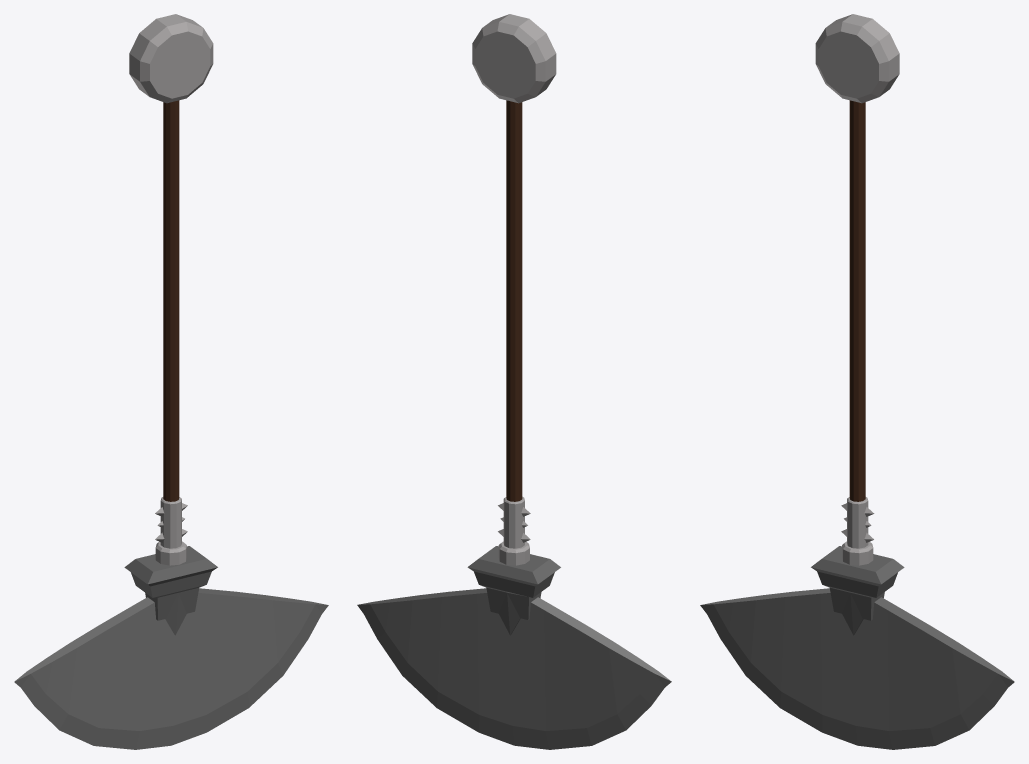
Rendered from StonePendulumTrap_3.fbx.
3 views of the same model, side by side, from view 1: azimuth 30°, elevation 25°; view 2: azimuth 150°, elevation 25°; view 3: azimuth 330°, elevation 25° (orthographic).
Parts seen in each view (by area): view 1: StonePendulumTrap_3; view 2: StonePendulumTrap_3; view 3: StonePendulumTrap_3.
Boxes of the visible parts, left/top/right/bottom form: StonePendulumTrap_3: left=14, top=14, right=328, bottom=749; StonePendulumTrap_3: left=357, top=14, right=671, bottom=749; StonePendulumTrap_3: left=700, top=14, right=1014, bottom=749.
Size of the model in its own units: 162 by 357 by 20.83.
